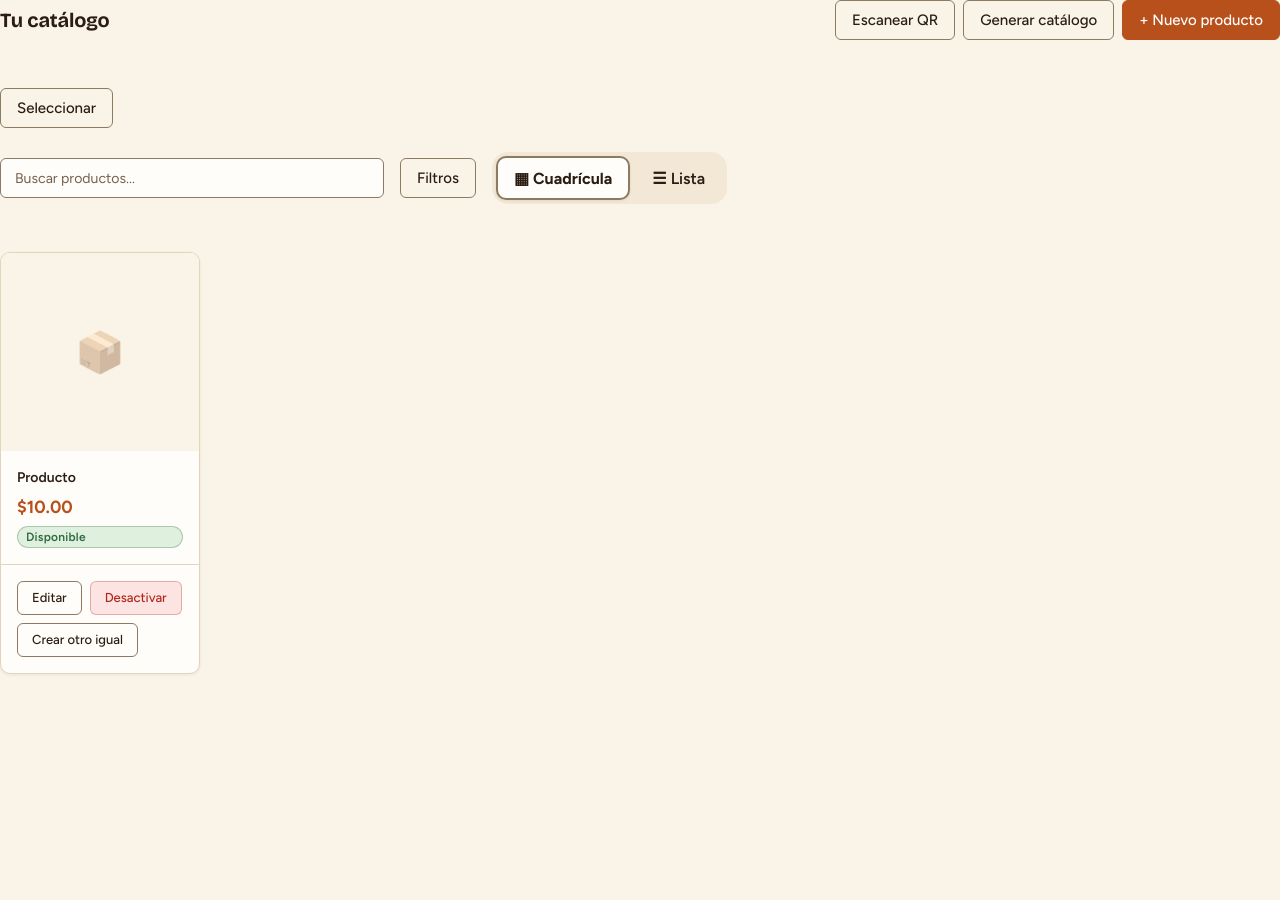
Test: recuperarse de un dispositivo que ya no existe (403 "Selection is not authorized…") › muestra un aviso fijo con el botón para volver a identificar el dispositivo
This screenshot has width=1280, height=900.
Click the button "+ Nuevo producto" at (1201, 20), box [1122,0,1279,40]
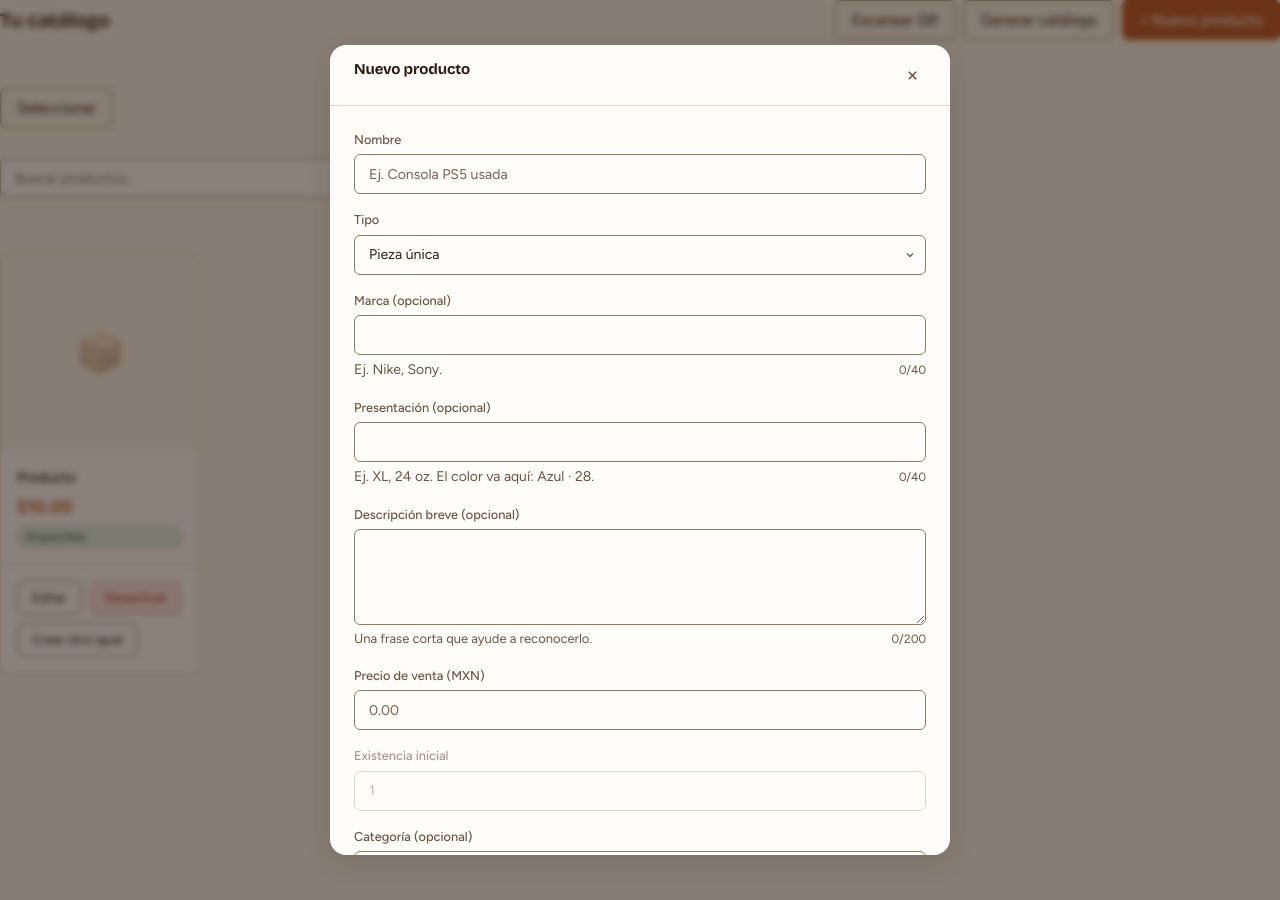
Type "Bonsai" into the field with placeholder "Ej. Consola PS5 usada" at (640, 174), box [354,154,926,194]
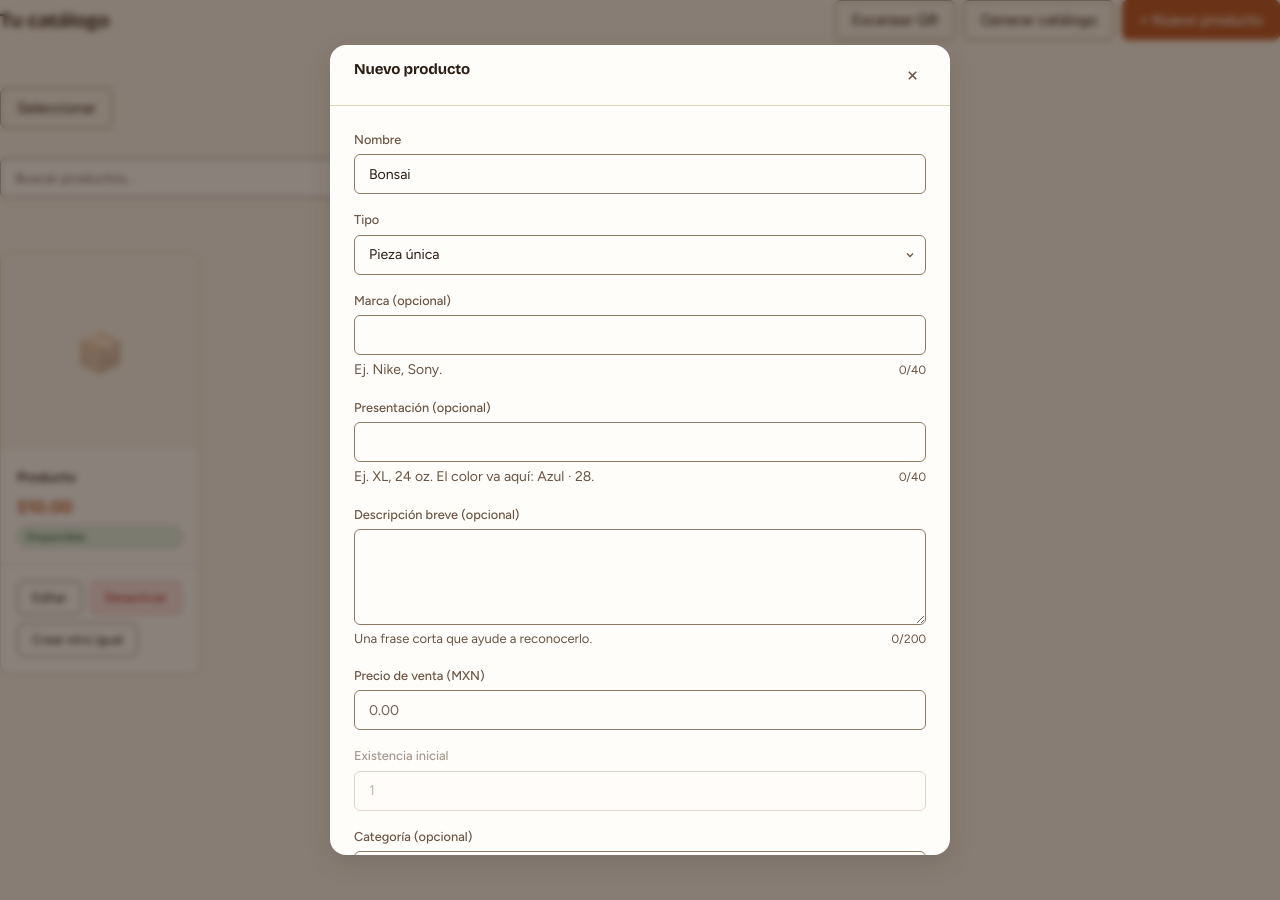
Type "1,500.00" into the field labelled "Precio de venta (MXN)" at (640, 710), box [354,690,926,730]
(page scrolled)
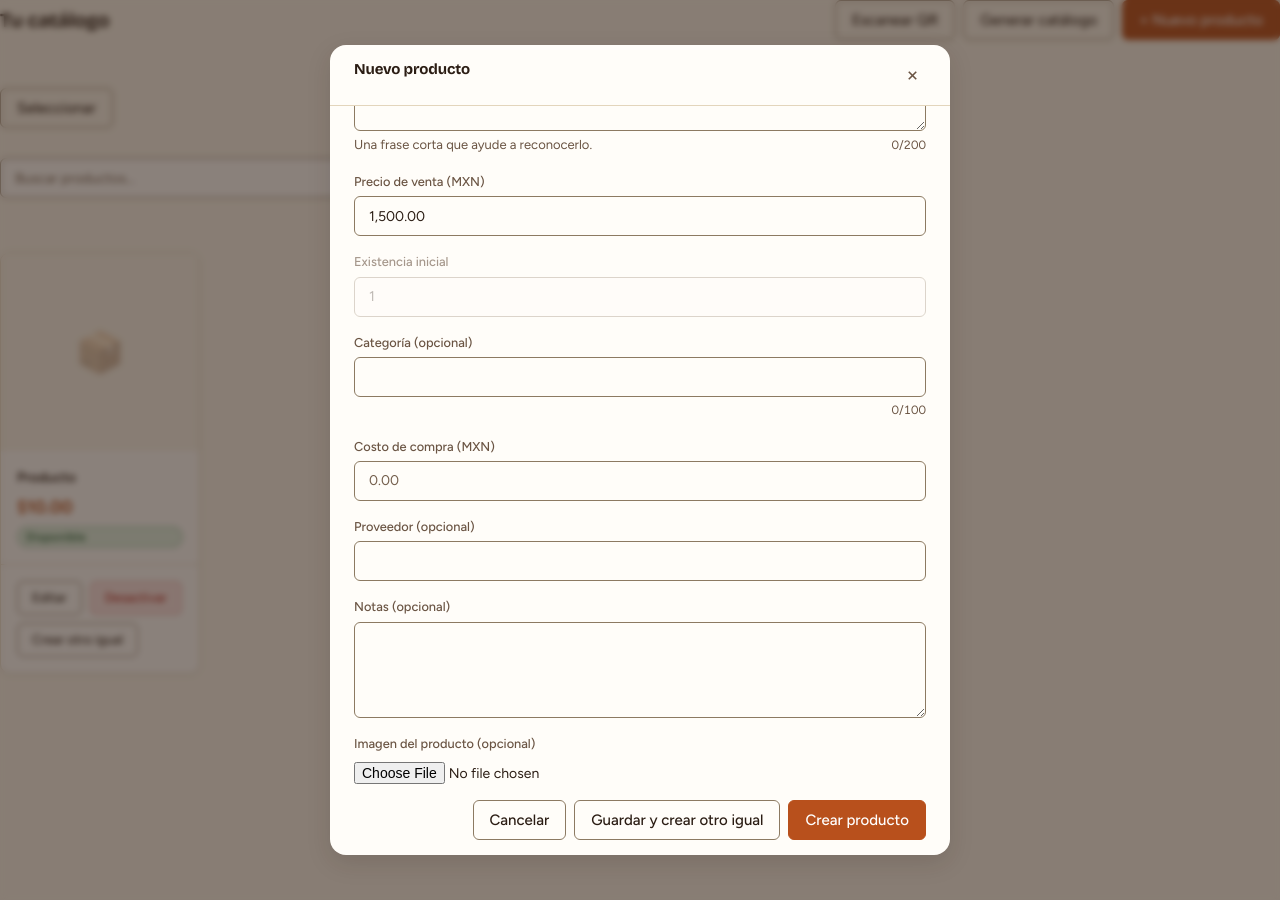
Type "0" into the field labelled "Costo de compra (MXN)" at (640, 481), box [354,461,926,501]
(page scrolled)
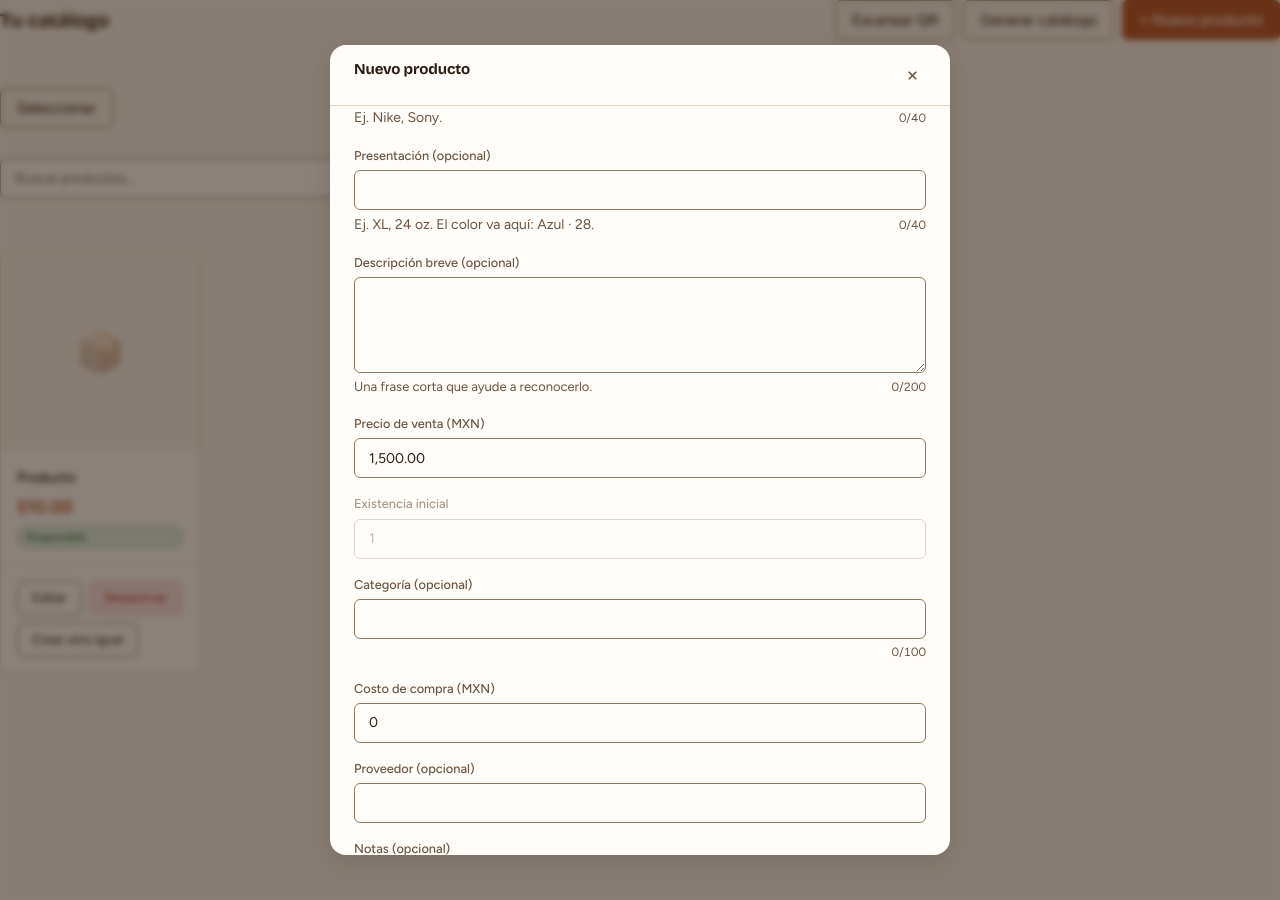
Submit the form
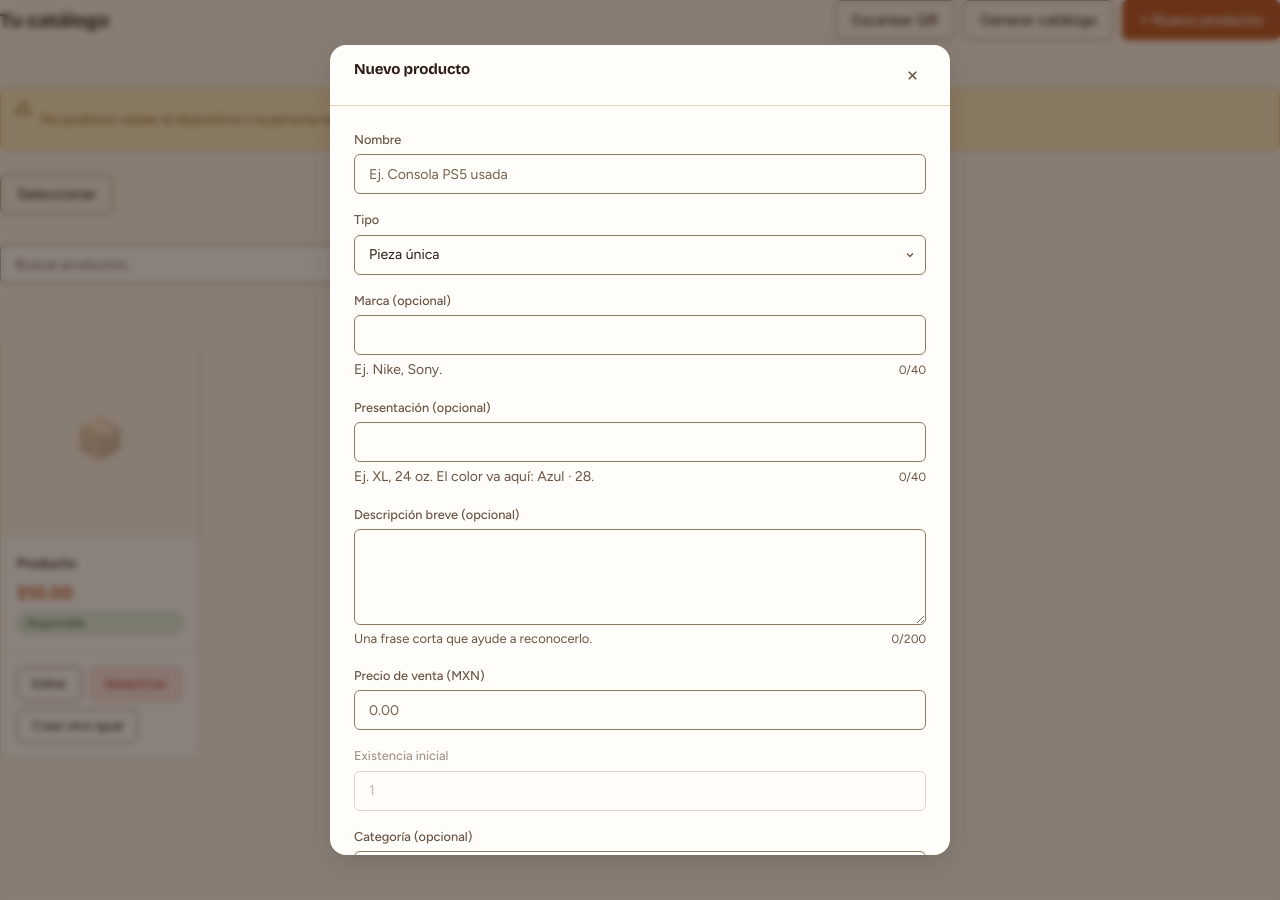
Check: the button "Volver a identificar este dispositivo" is shown, box [623,99,894,139]
Check: the text "No pudimos validar el dispositivo o la persona seleccionada. Confirma tu acceso para continuar." is shown, box [41,111,623,127]
